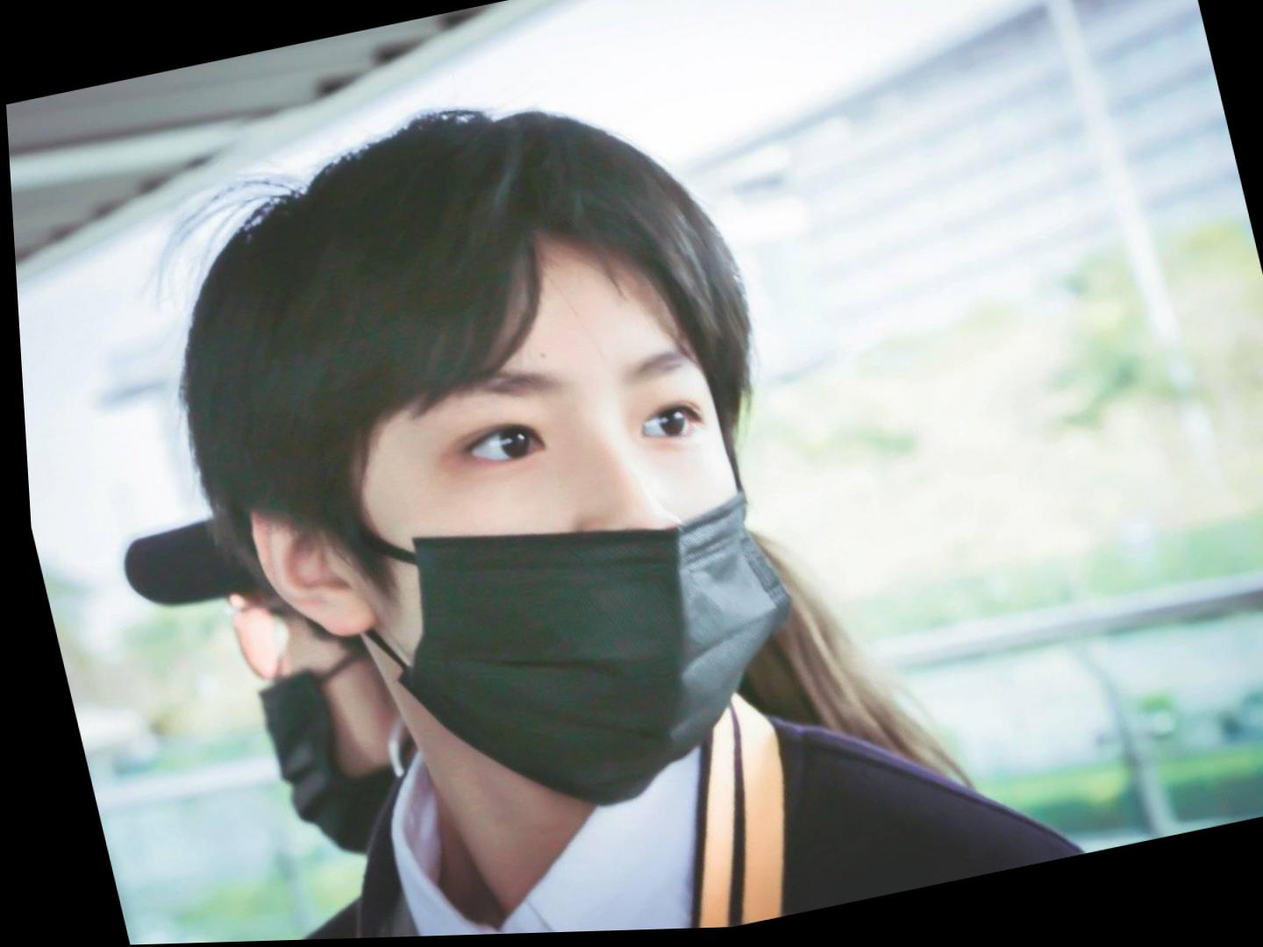OK: (225, 572, 415, 876)
WRONG: (333, 279, 811, 830)
